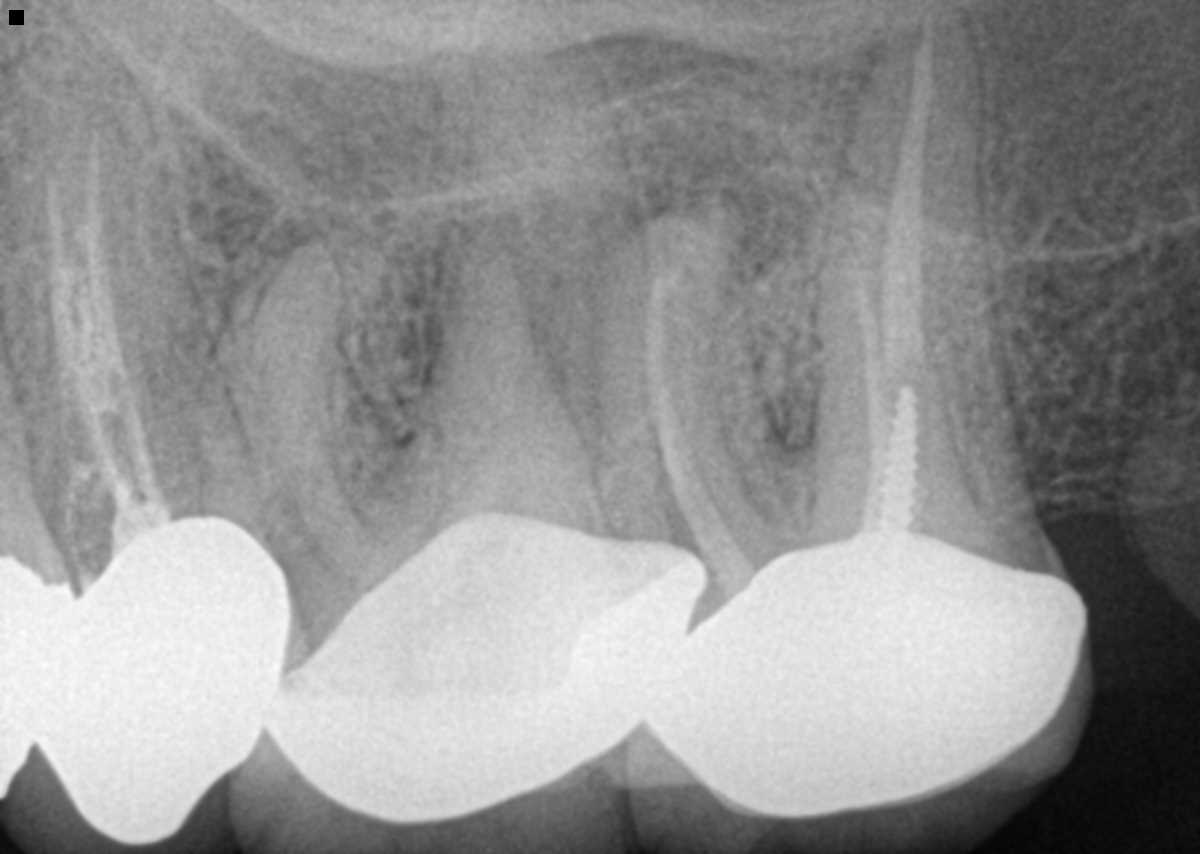Apical Lesion: (576, 107, 814, 272), (233, 190, 387, 298), (416, 193, 561, 300)
Distal Root: (406, 223, 610, 518), (800, 199, 972, 506)
Main Root: (0, 33, 255, 588)
Mesial Canal: (259, 364, 337, 574)
Mesial Root: (597, 209, 788, 550), (198, 250, 370, 623)
Palatal Root: (413, 0, 682, 558), (809, 0, 1029, 482)
Root Canal Filling: (853, 13, 974, 533), (46, 129, 167, 545), (645, 256, 755, 594)
